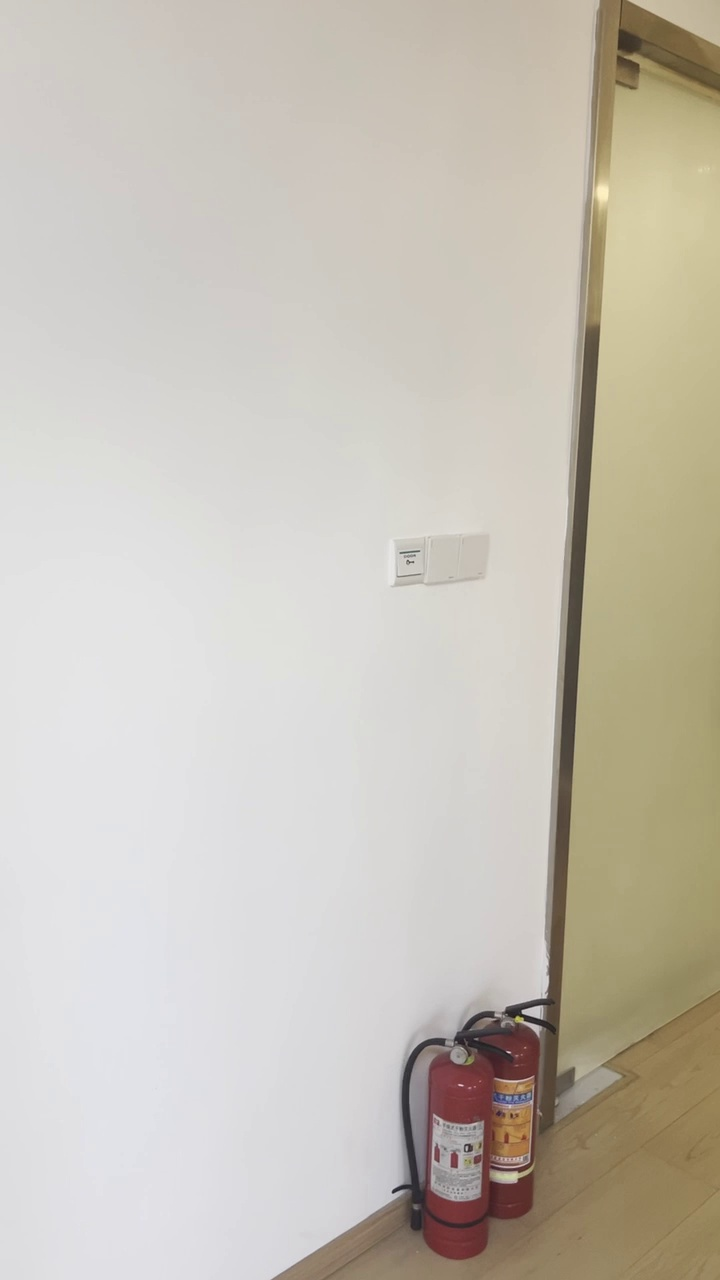button: (425, 531, 464, 585), (457, 530, 488, 583)
